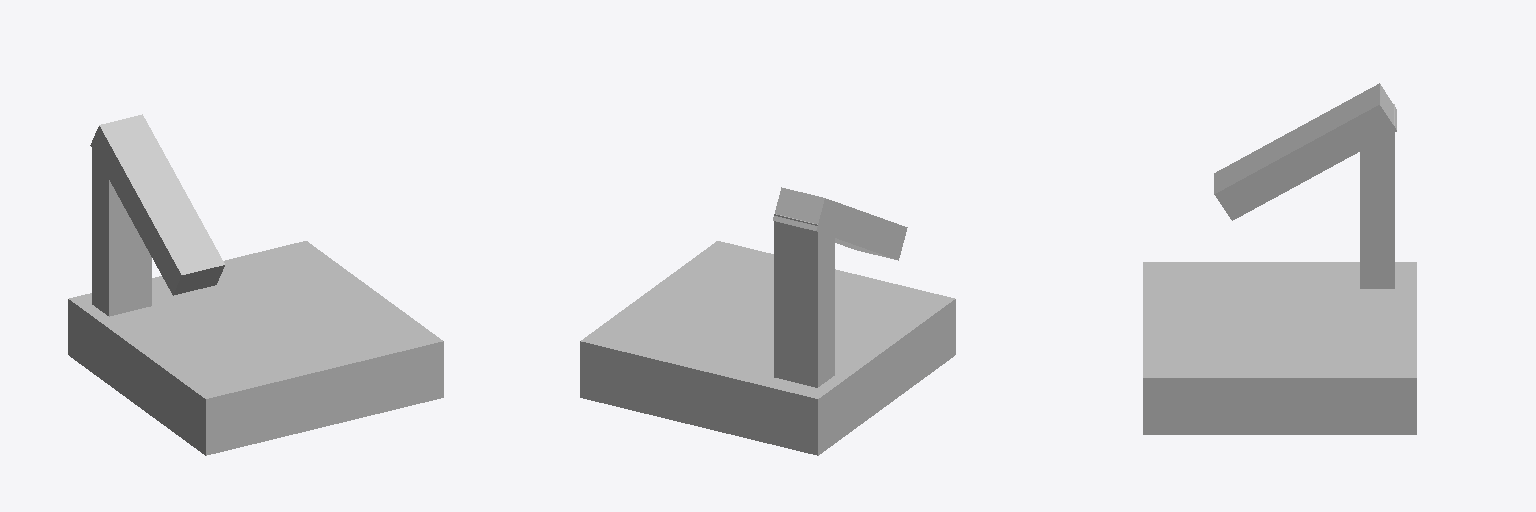
Rendered from eventile.obj.
The picture shows the model from 3 angles: view 1: azimuth 30°, elevation 25°; view 2: azimuth 150°, elevation 25°; view 3: azimuth 270°, elevation 25°; orthographic projection.
Parts seen in each view (by area): view 1: Cube, Cube.002, Cube.001; view 2: Cube, Cube.001, Cube.002; view 3: Cube, Cube.002, Cube.001.
Boxes of the visible parts, box(x1,y1,x2,y2) form: Cube: box(68, 241, 443, 455); Cube.002: box(90, 114, 224, 295); Cube.001: box(92, 141, 151, 316); Cube: box(580, 241, 955, 455); Cube.001: box(774, 212, 834, 387); Cube.002: box(773, 187, 907, 260); Cube: box(1143, 262, 1416, 434); Cube.002: box(1214, 83, 1396, 220); Cube.001: box(1360, 104, 1394, 288).
Size of the model in its own units: 2 by 1.94 by 2.